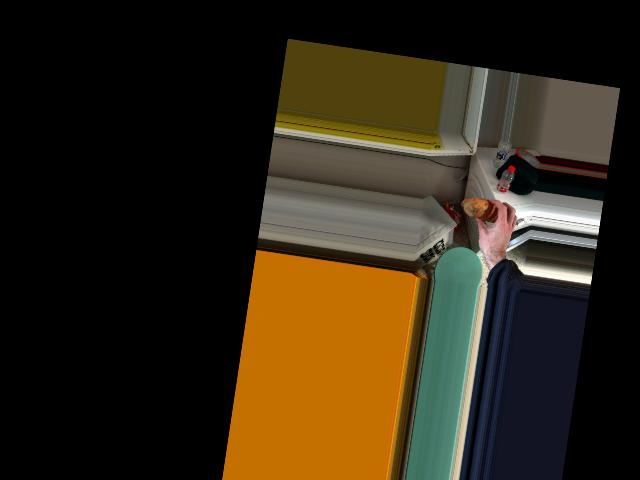sweet_potato: (469, 201, 508, 235)
